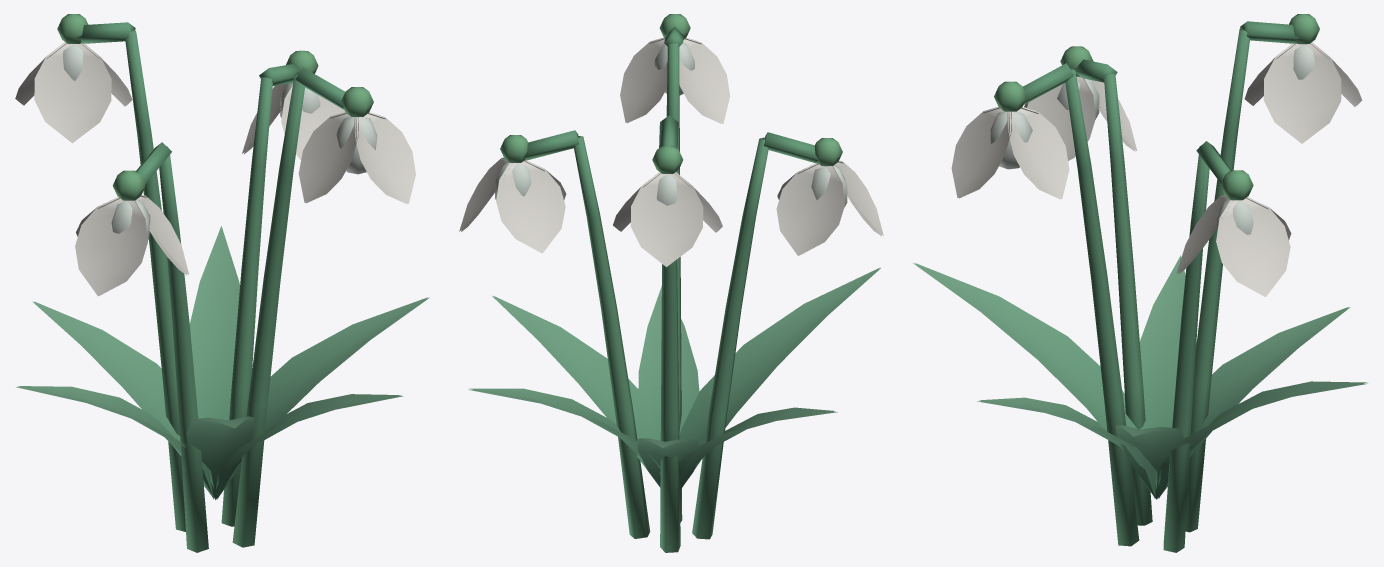
The model's file is ing_snowdrop.glb.
3 renders of one model, left to right at view 1: azimuth 30°, elevation 25°; view 2: azimuth 150°, elevation 25°; view 3: azimuth 270°, elevation 25°, orthographic. The views are drawn at different scales.
Visible parts, largest first — view 1: ing_snowdrop; view 2: ing_snowdrop; view 3: ing_snowdrop.
Boxes of the visible parts, box(x1,y1,x2,y2) form: ing_snowdrop: box(15, 14, 429, 552); ing_snowdrop: box(459, 14, 883, 552); ing_snowdrop: box(913, 14, 1367, 552).
Size of what is drawn, in the model's own units: 0.2184 by 0.2612 by 0.2193.
